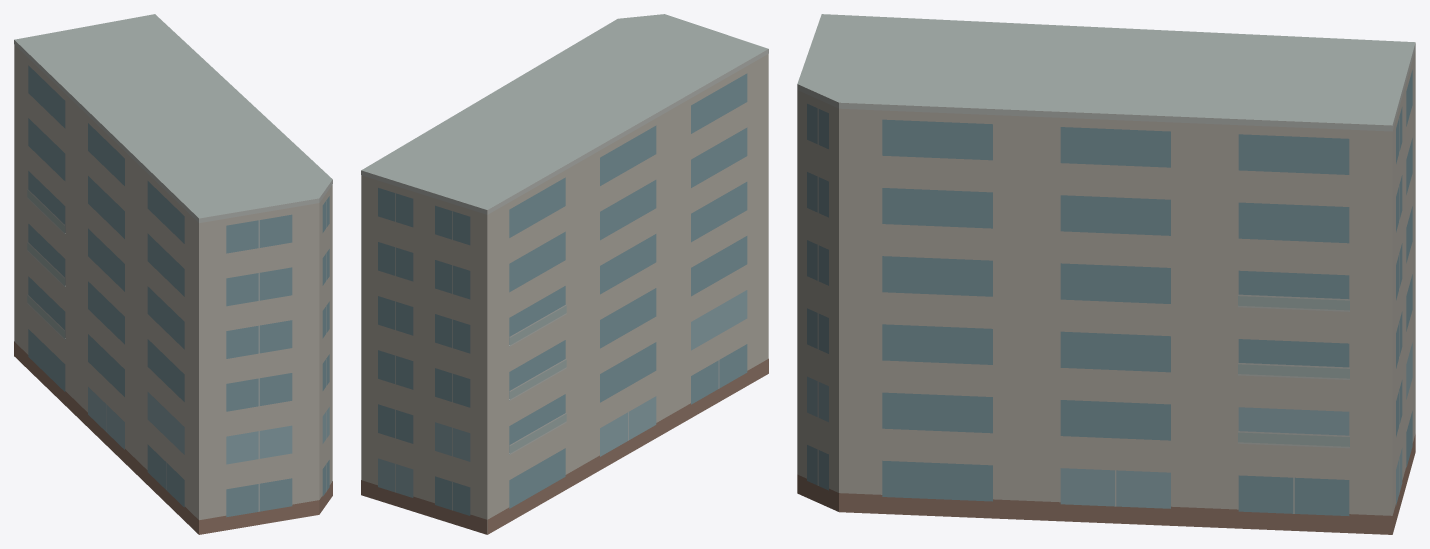
Rendered from survey-upis-32878943.glb.
3 renders of one model, left to right at view 1: azimuth 30°, elevation 25°; view 2: azimuth 150°, elevation 25°; view 3: azimuth 270°, elevation 25°, orthographic. The views are drawn at different scales.
Parts seen in each view (by area): view 1: survey-upis-32878943.tmp; view 2: survey-upis-32878943.tmp; view 3: survey-upis-32878943.tmp.
Part boxes in pixels (x1,y1,x2,y2): survey-upis-32878943.tmp: (14, 14, 332, 534); survey-upis-32878943.tmp: (361, 14, 768, 534); survey-upis-32878943.tmp: (797, 14, 1415, 534).
Size of the model in its own units: 9.7 by 16.6 by 22.73.
